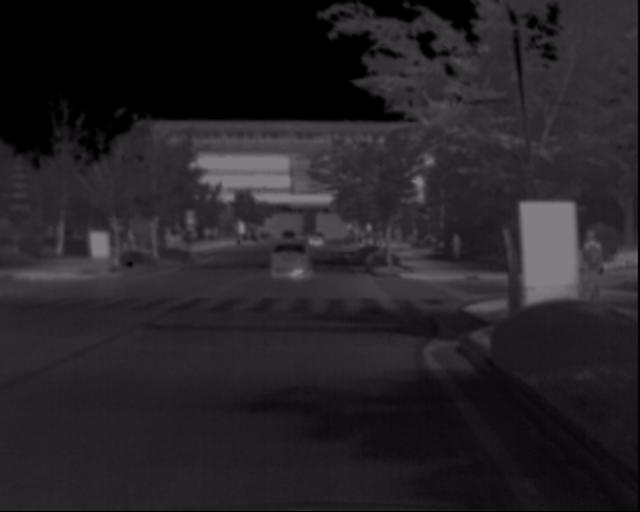person: (577, 226, 612, 305)
